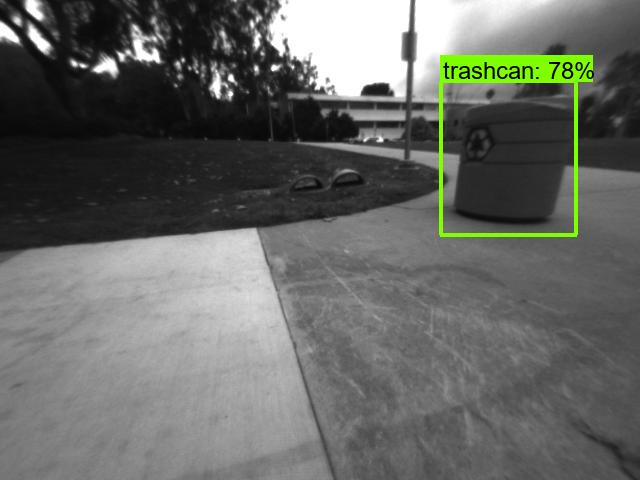trashcan: (458, 93, 572, 230)
